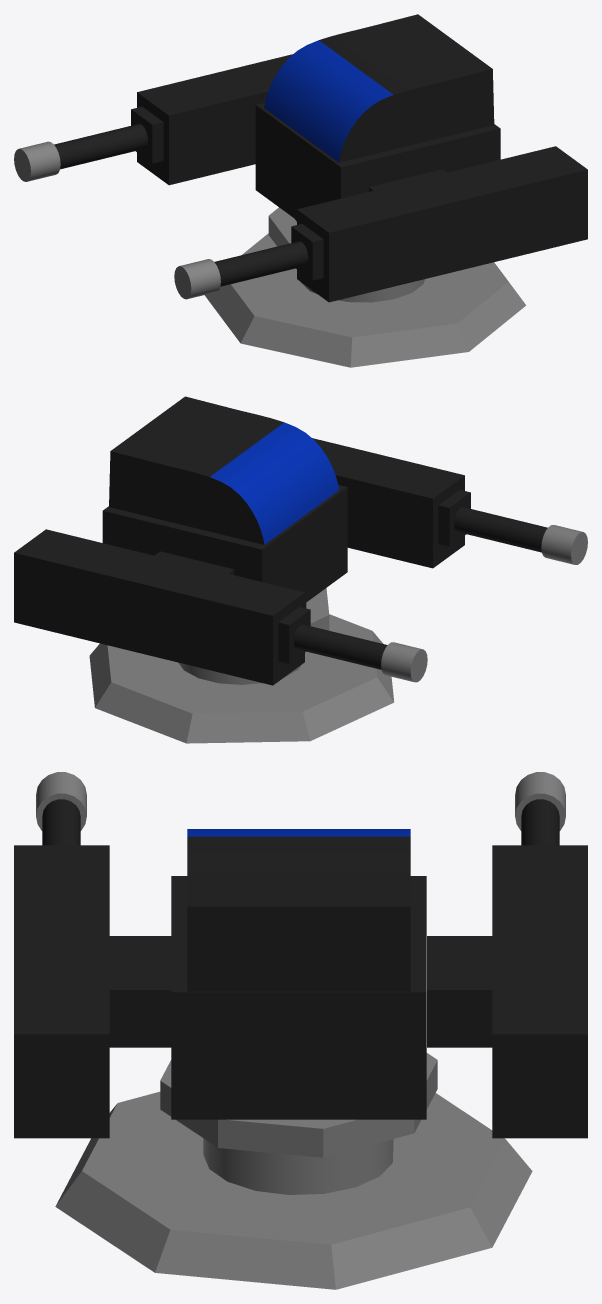
File: Пушка (3).FBX
3 views of the same model, one above another, from view 1: azimuth 30°, elevation 25°; view 2: azimuth 150°, elevation 25°; view 3: azimuth 270°, elevation 25° (orthographic). The views are drawn at different scales.
Parts seen in each view (by area): view 1: Box001, Box003, NGon001, Box006; view 2: Box001, Box006, NGon001, Box003; view 3: Box001, NGon001, Box006, Box003.
Boxes of the visible parts, x1,y1,x2,y2 form: Box001: (255, 14, 500, 219); Box003: (174, 146, 587, 302); NGon001: (204, 207, 525, 367); Box006: (14, 54, 292, 185); Box001: (102, 396, 347, 603); Box006: (14, 529, 427, 685); NGon001: (89, 588, 394, 743); Box003: (312, 438, 587, 568); Box001: (109, 829, 492, 1119); NGon001: (55, 1053, 532, 1289); Box006: (492, 772, 587, 1138); Box003: (14, 772, 109, 1138).
Bounding box in the file's own units: 108 × 60.45 × 89.92.
